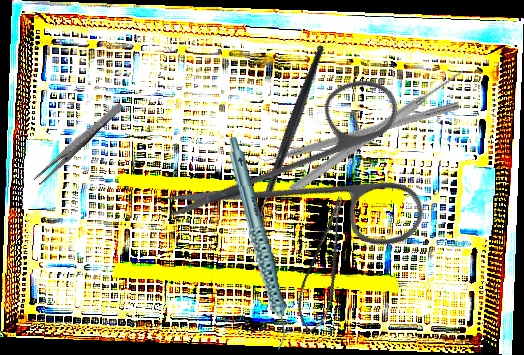Chopper: (206, 43, 380, 230), (247, 90, 461, 169)
Dressing Forceps: (32, 99, 125, 187)
Handpiece: (228, 136, 288, 351)
Iris Scissors: (159, 19, 473, 333)
Micro Scissor: (286, 194, 368, 338)
Pusher: (287, 65, 468, 197)
